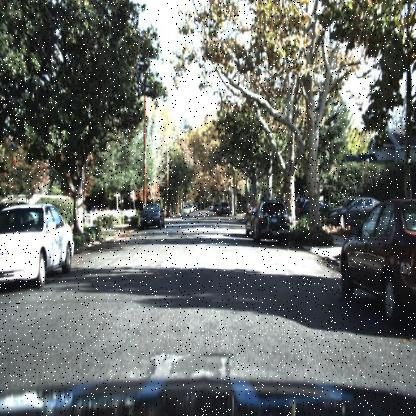car: (339, 198, 416, 330), (0, 199, 77, 293), (325, 192, 383, 230), (252, 199, 292, 244), (326, 196, 370, 229), (296, 194, 330, 221), (138, 200, 164, 227), (242, 207, 253, 238), (218, 200, 230, 218)
